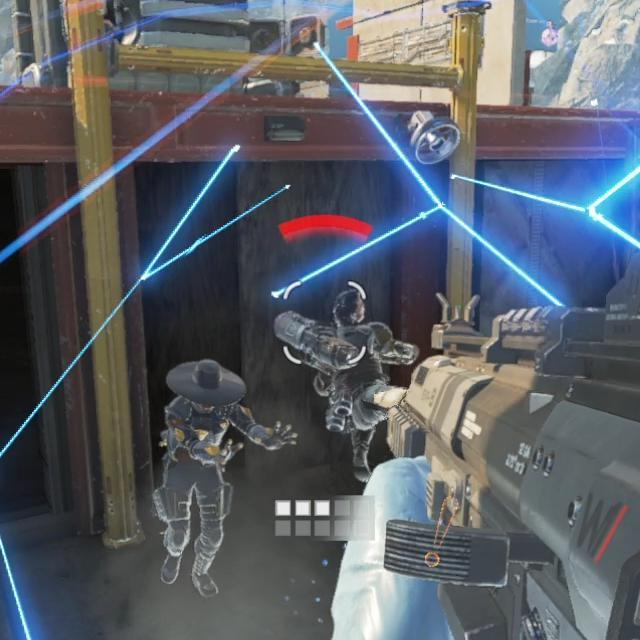avatar: (148, 358, 249, 599), (311, 286, 394, 485)
